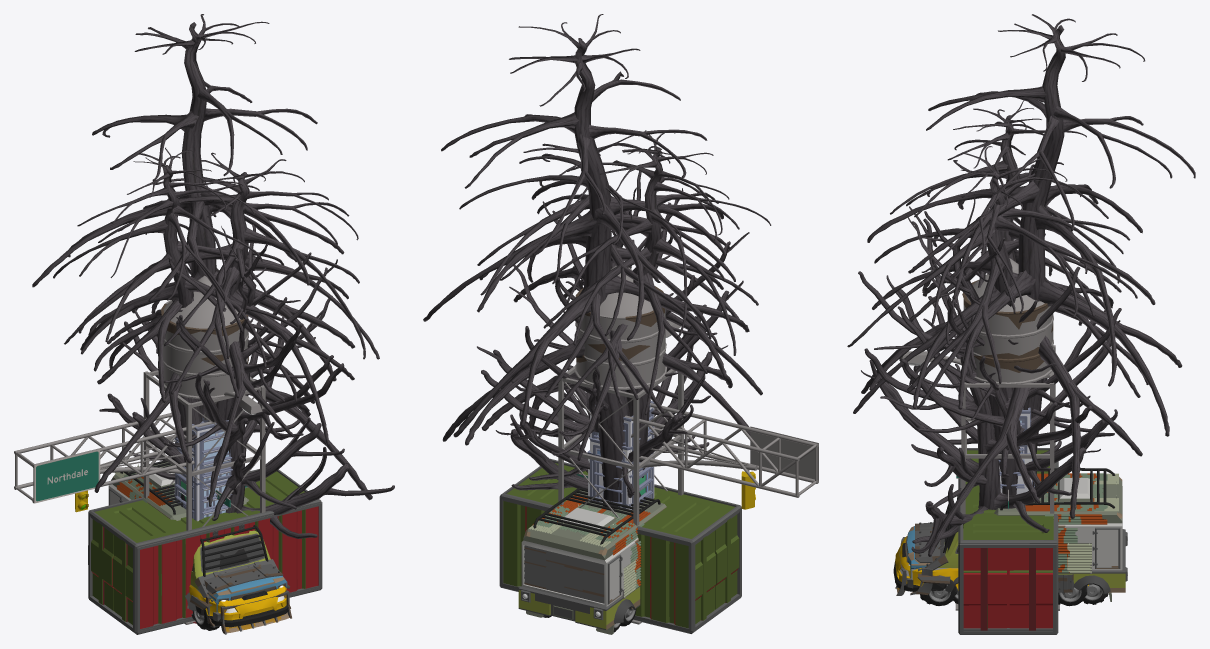
File: city.glb
3 views of the same model, side by side, from view 1: azimuth 30°, elevation 25°; view 2: azimuth 150°, elevation 25°; view 3: azimuth 270°, elevation 25° (orthographic). The views are drawn at different scales.
Visible parts, largest first — view 1: DeadTree_5, DeadTree_4, Container_Green, DeadTree_2, DeadTree_3, Container_Red, WaterTower, TownSign, DeadTree_1, Truck_Armored, Pickup_Armored, Sports (+5 smaller); view 2: DeadTree_5, Container_Green, DeadTree_3, DeadTree_4, Truck_Armored, WaterTower, Truck, DeadTree_2, TownSign, DeadTree_1, Container_Red, TrafficLight_2 (+3 smaller); view 3: DeadTree_5, DeadTree_4, DeadTree_2, Container_Red, Truck_Armored, DeadTree_1, WaterTower, DeadTree_3, Container_Green, Truck, Pickup_Armored, Sports.
Boxes of the visible parts, x1,y1,x2,y2 form: DeadTree_5: (32, 14, 372, 507); DeadTree_4: (78, 152, 379, 506); Container_Green: (88, 469, 321, 632); DeadTree_2: (132, 224, 394, 538); DeadTree_3: (53, 147, 297, 467); Container_Red: (89, 501, 322, 634); WaterTower: (143, 275, 265, 624); TownSign: (14, 413, 215, 503); DeadTree_1: (99, 263, 344, 509); Truck_Armored: (108, 460, 290, 627); Pickup_Armored: (190, 564, 291, 634); Sports: (187, 585, 288, 627); DeadTree_5: (423, 14, 750, 509); Container_Green: (500, 458, 741, 632); DeadTree_3: (532, 130, 771, 477); DeadTree_4: (459, 135, 762, 460); Truck_Armored: (519, 488, 665, 634); WaterTower: (558, 265, 683, 624); Truck: (518, 490, 666, 633); DeadTree_2: (477, 171, 749, 497); TownSign: (624, 403, 818, 497); DeadTree_1: (481, 239, 706, 494); Container_Red: (499, 496, 741, 633); TrafficLight_2: (579, 432, 757, 509); DeadTree_5: (867, 14, 1195, 556); DeadTree_4: (847, 146, 1148, 495); DeadTree_2: (858, 194, 1105, 553); Container_Red: (958, 479, 1058, 634); Truck_Armored: (910, 468, 1127, 601); DeadTree_1: (897, 262, 1121, 506); WaterTower: (955, 258, 1059, 610); DeadTree_3: (890, 100, 1140, 397); Container_Green: (958, 448, 1058, 630); Truck: (931, 477, 1127, 593); Pickup_Armored: (895, 522, 956, 595); Sports: (893, 536, 1088, 591).
Bounding box in the file's own units: 10.12 × 16.44 × 8.93.
389 materials, 259 textured.
